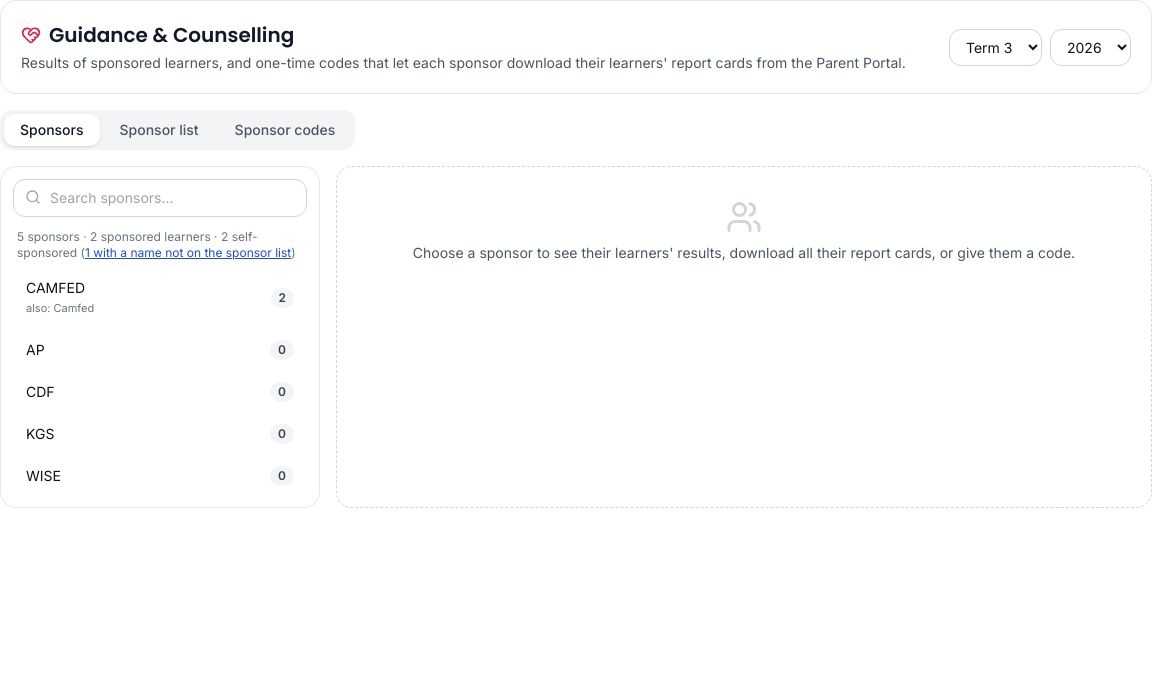
Test: Guidance workspace › Sponsor list: add a sponsor; a name typed but not listed can be added or marked as a listed one
Expected: the button "CAMFED also: Camfed 2" is shown, [13,269,307,327]
Click the button "1 with a name not on the sponsor list": click(188, 253) [85,245,291,261]
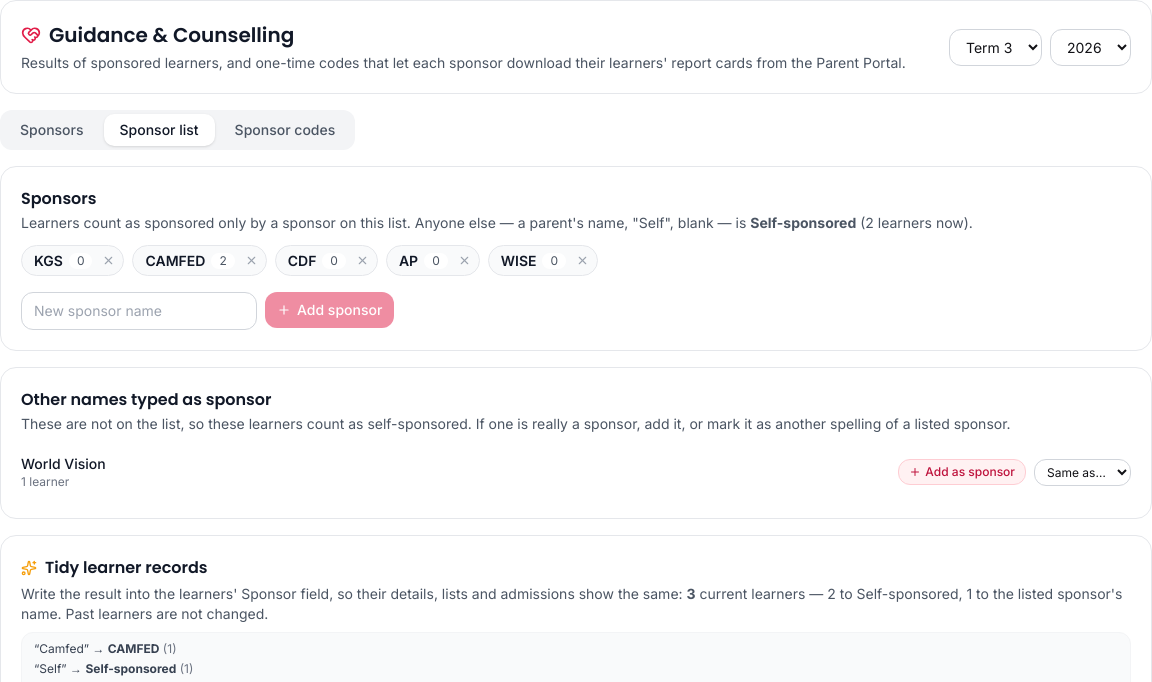
// Add a new sponsor
In the field labelled "New sponsor name": (139, 311) [21,292,257,330], type "camfed"
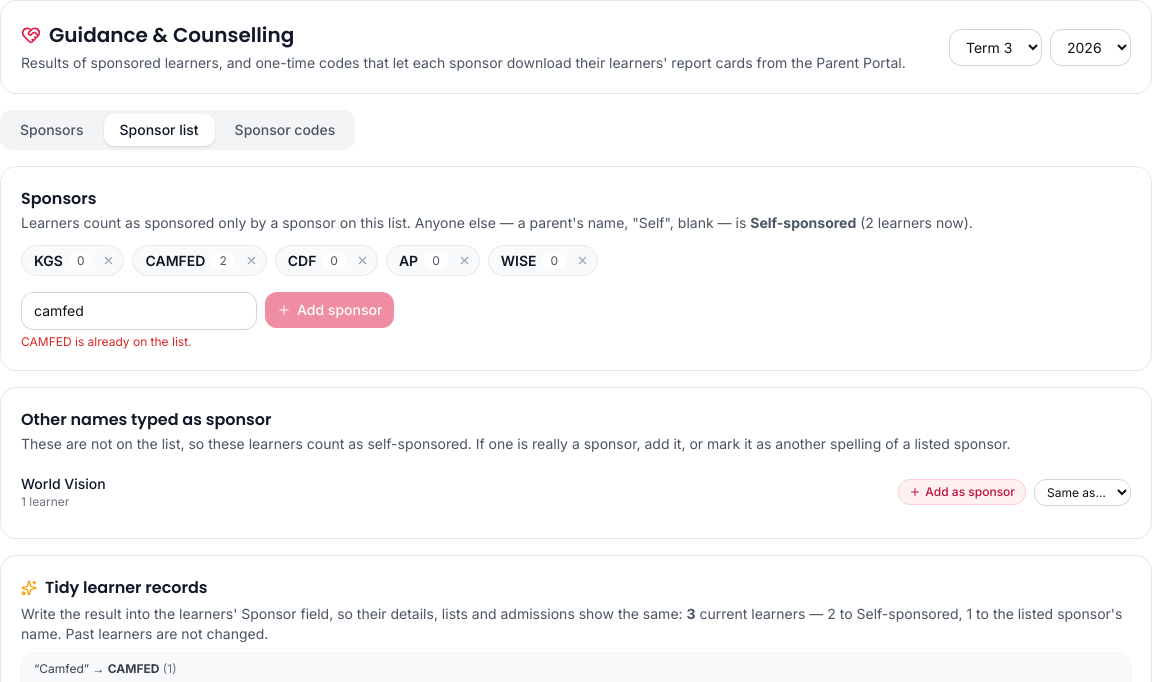
Result: the text "CAMFED is already on the list." is shown at [21,334,192,349]
Replace the text in the field named "New sponsor name" with "Plan International": (139, 311) [21,292,257,330]
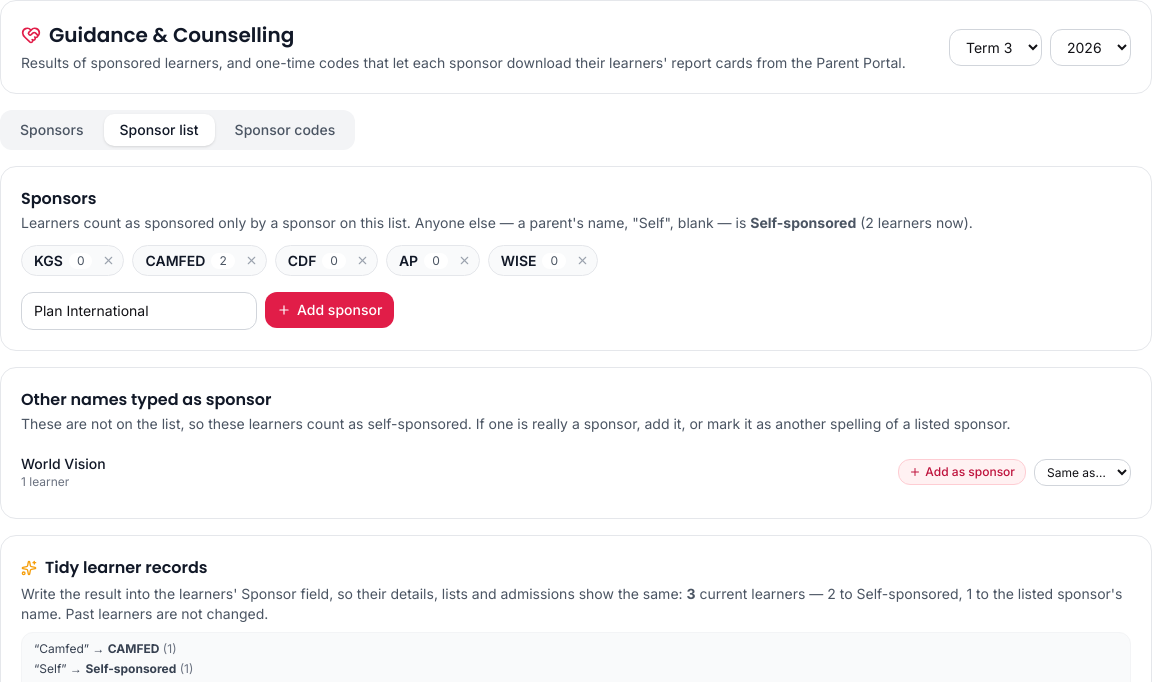
Click the button "Add sponsor": click(330, 310) [265,292,394,328]
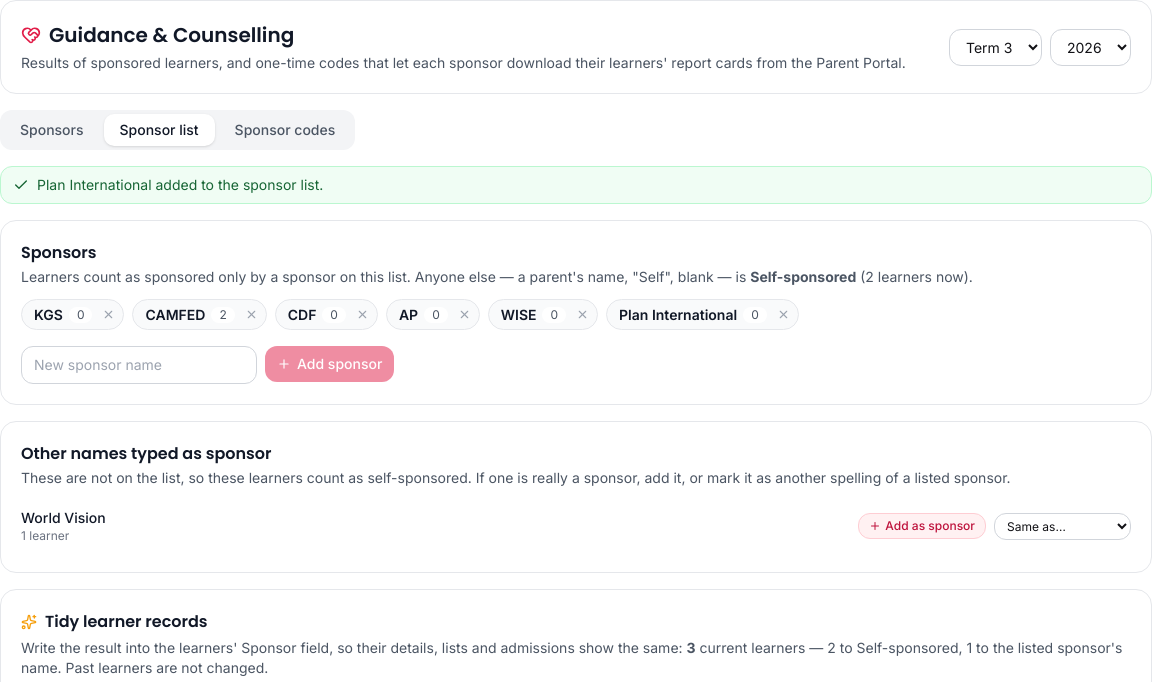
Result: the text "World Vision" is shown at [21,508,106,528]
Result: the text "Plan International added to the sponsor list." is shown at [0,166,1151,204]
Select "WISE" in the dropdown named "World Vision is the same as": (1062, 526) [994,512,1131,540]
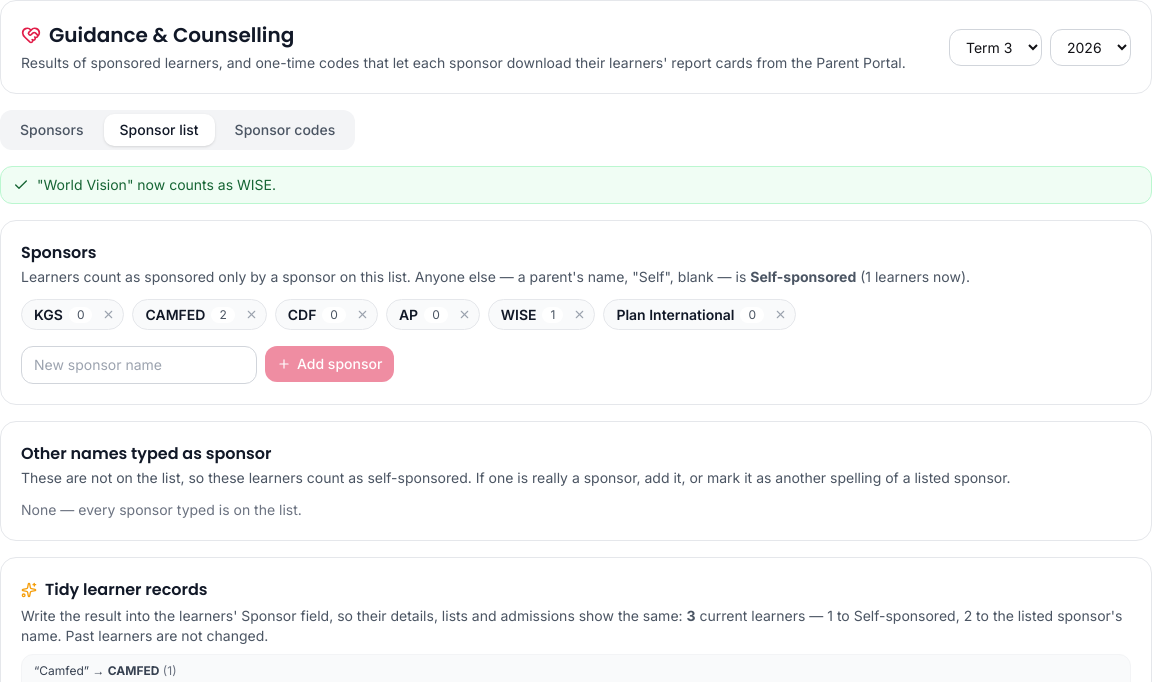
Result: the text "\"World Vision\" now counts as WISE." is shown at [0,166,1151,204]
Result: the text "None — every sponsor typed is on the list." is shown at [21,501,302,518]
